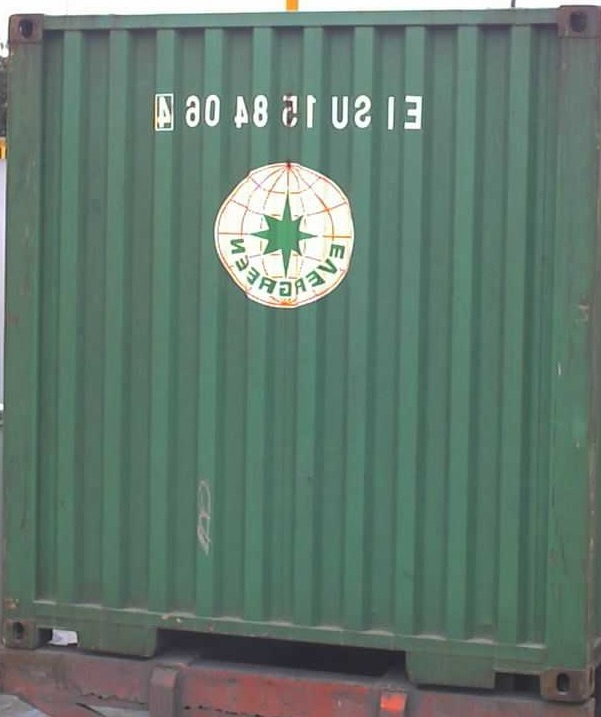container_no_door: (11, 11, 585, 694)
